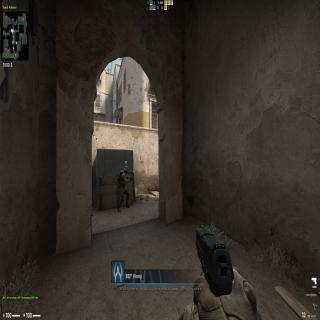CT-Head: (123, 165, 130, 174)
